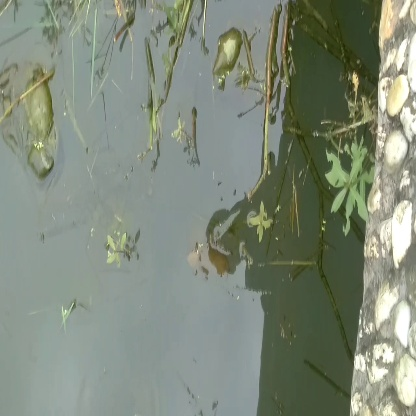plastic-bag: (3, 59, 66, 179)
